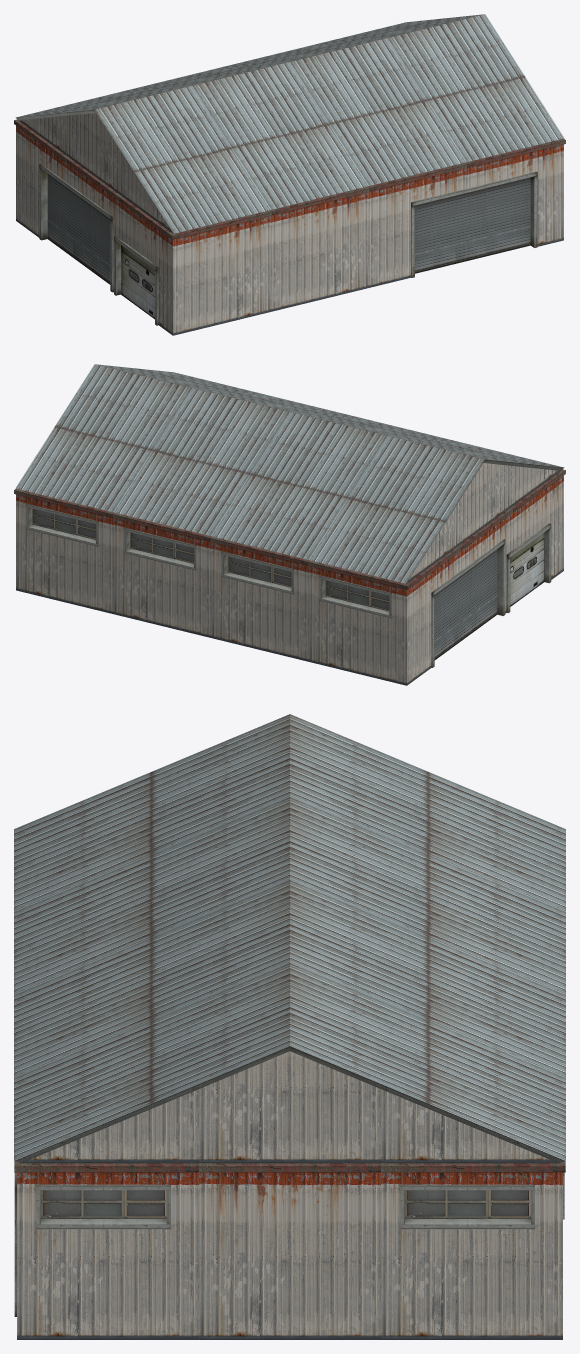
Rendered from Hangar_v2_6.FBX.
The picture shows the model from 3 angles, top to bottom: view 1: azimuth 30°, elevation 25°; view 2: azimuth 150°, elevation 25°; view 3: azimuth 270°, elevation 25°; orthographic projection. The views are drawn at different scales.
Visible parts, largest first — view 1: Hangar_v2_6, Hangar_v2_6_gate2, Hangar_v2_6_gate1, Hangar_v2_6_door1; view 2: Hangar_v2_6, Hangar_v2_6_gate1, Hangar_v2_6_door1; view 3: Hangar_v2_6.
Part boxes in pixels (x1,y1,x2,y2): Hangar_v2_6: [14, 14, 565, 335]; Hangar_v2_6_gate2: [415, 177, 530, 273]; Hangar_v2_6_gate1: [47, 173, 110, 284]; Hangar_v2_6_door1: [121, 245, 154, 319]; Hangar_v2_6: [14, 364, 565, 685]; Hangar_v2_6_gate1: [434, 549, 497, 660]; Hangar_v2_6_door1: [510, 532, 544, 606]; Hangar_v2_6: [14, 714, 565, 1339].
Bounding box in the file's own units: 19.88 × 8.14 × 13.86.
